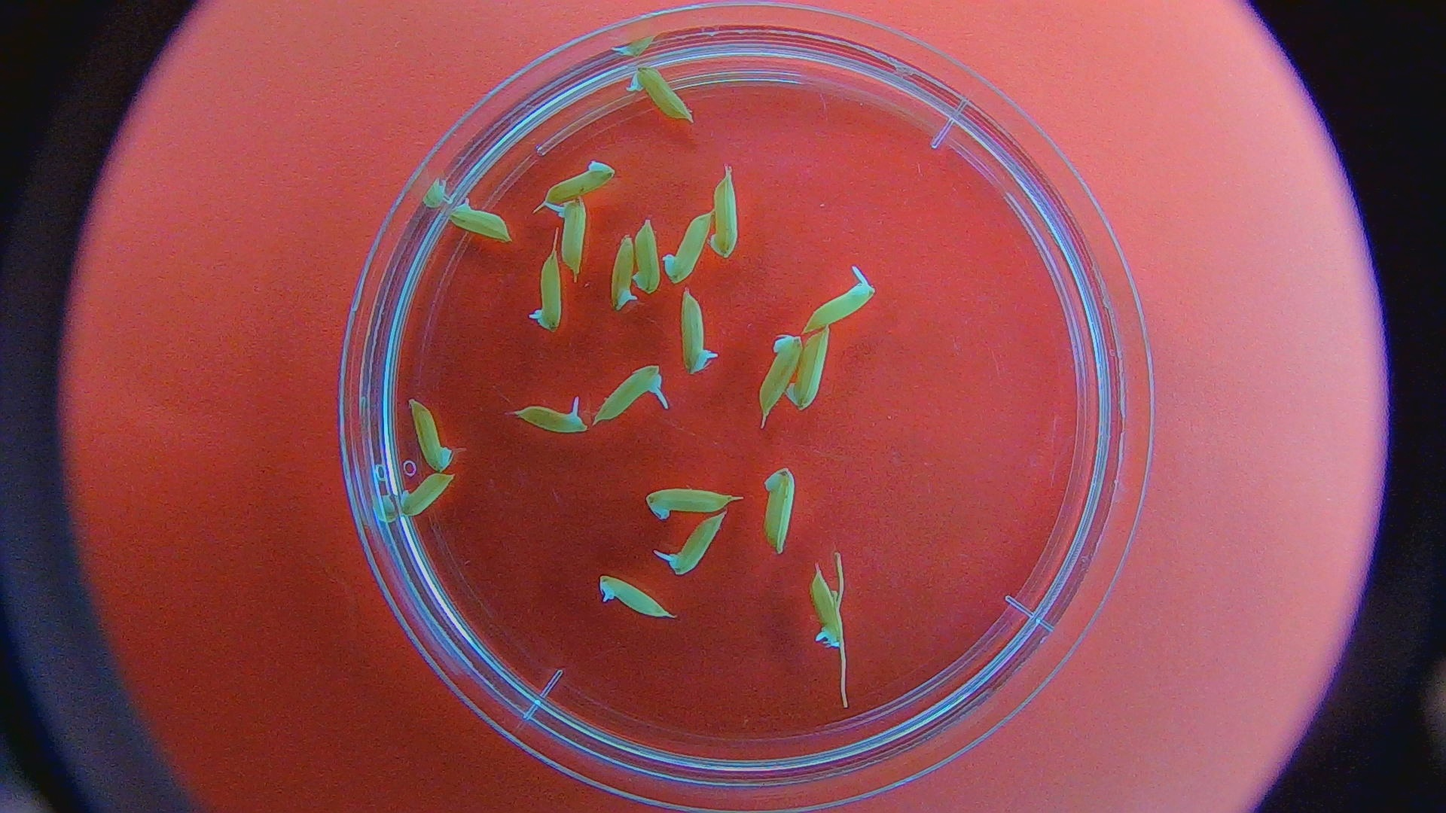no: (755, 458, 801, 556), (661, 205, 711, 286), (755, 330, 800, 414), (785, 323, 827, 408), (646, 483, 739, 519), (410, 399, 453, 472), (543, 161, 616, 202), (630, 213, 665, 297), (635, 67, 689, 120), (709, 172, 740, 259), (404, 472, 460, 515)
yes: (799, 279, 876, 334), (599, 367, 664, 423), (678, 291, 714, 378), (598, 576, 667, 620), (672, 513, 727, 568), (445, 200, 511, 242), (807, 571, 843, 645), (557, 195, 589, 273), (534, 254, 566, 332), (608, 233, 636, 315), (517, 404, 583, 437)
